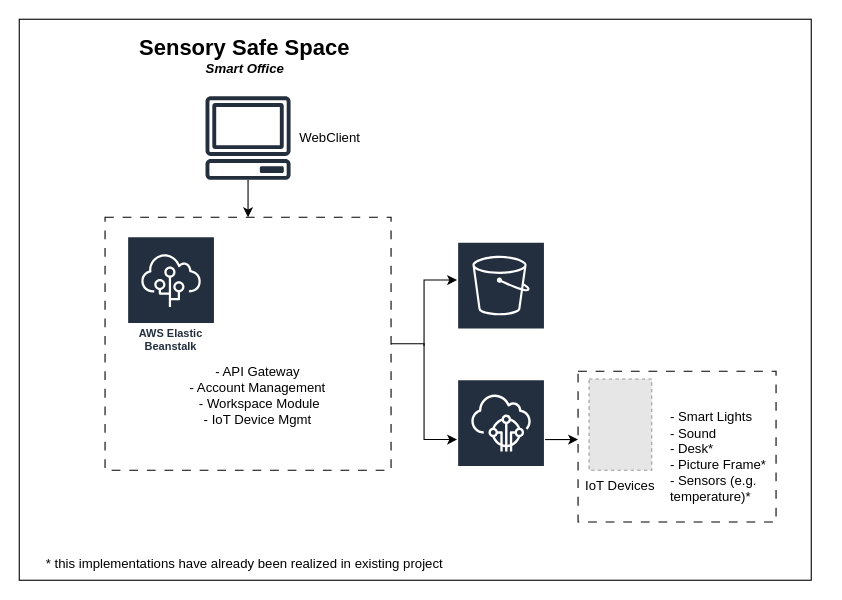
The diagram is 842 pixels wide and 600 high, and some of its shapes have lost their labels. Grey dashed boxes stand in for pictures. Here are the shapes that lost their labels. From the top down, the box of each, then its label:
(456, 240, 545, 352): Amazon S3
(456, 378, 545, 500): Amazon IoT Core
